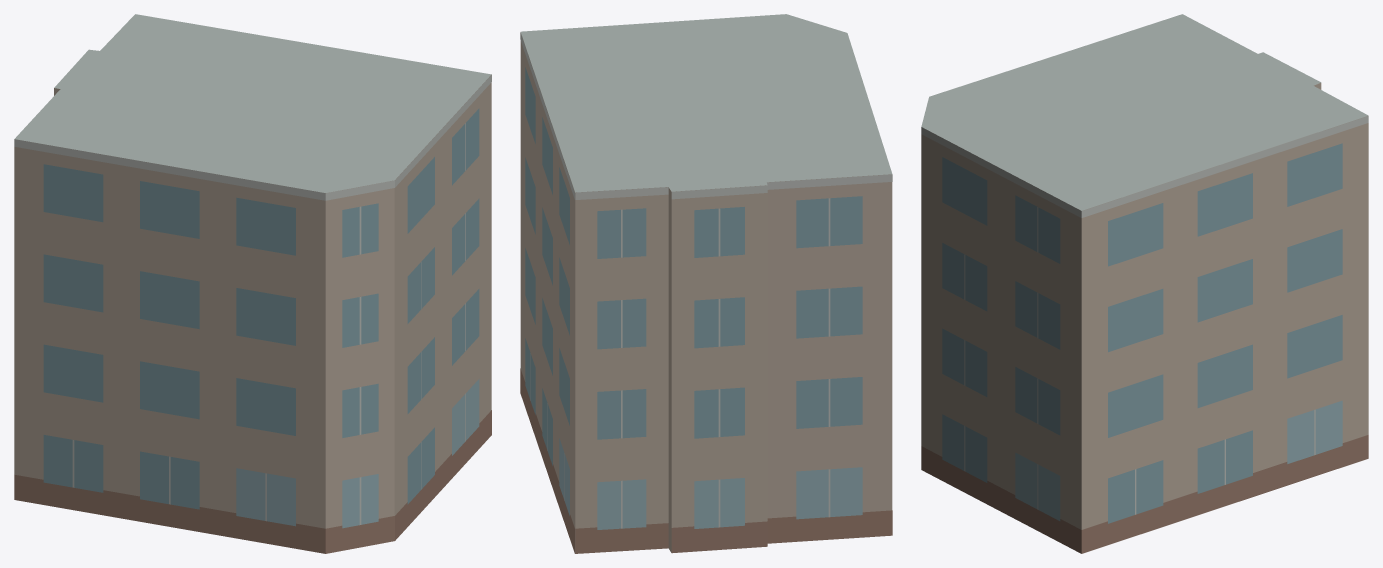
Rendered from survey-upis-33029207.glb.
3 views of the same model, side by side, from view 1: azimuth 30°, elevation 25°; view 2: azimuth 150°, elevation 25°; view 3: azimuth 270°, elevation 25° (orthographic). The views are drawn at different scales.
Parts seen in each view (by area): view 1: survey-upis-33029207.tmp; view 2: survey-upis-33029207.tmp; view 3: survey-upis-33029207.tmp.
Boxes of the visible parts, x1=… form: survey-upis-33029207.tmp: x1=14, y1=14, x2=491, y2=553; survey-upis-33029207.tmp: x1=520, y1=14, x2=892, y2=553; survey-upis-33029207.tmp: x1=921, y1=14, x2=1368, y2=553.
Size of the model in its own units: 14.17 by 11.5 by 13.6.
